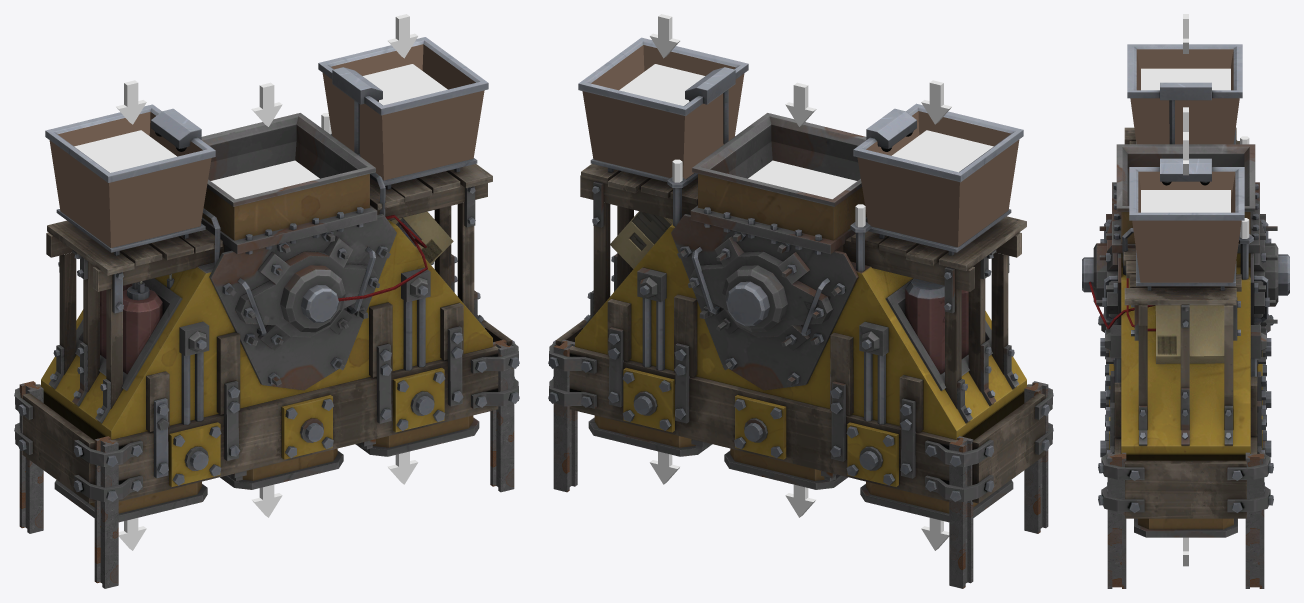
File: VerticalBulkSorter.glb
The picture shows the model from 3 angles, left to right: view 1: azimuth 30°, elevation 25°; view 2: azimuth 150°, elevation 25°; view 3: azimuth 270°, elevation 25°; orthographic projection. The views are drawn at different scales.
Visible parts, largest first — view 1: VerticalBulkSorter, VerticalBulkSorterSupport (×3), FilterTriggerRight, SorterTrigger, FilterTriggerLeft, input ghostarrow, basket ghostarrow (1), basket ghostarrow; view 2: VerticalBulkSorter, VerticalBulkSorterSupport (×3), FilterTriggerRight, SorterTrigger, FilterTriggerLeft, input ghostarrow, basket ghostarrow (1), basket ghostarrow; view 3: VerticalBulkSorter, VerticalBulkSorterSupport (×2), FilterTriggerLeft, FilterTriggerRight.
Boxes of the visible parts, <box> form: VerticalBulkSorter: <box>14,37,519,522</box>; VerticalBulkSorterSupport (×3): <box>19,339,514,588</box>; FilterTriggerRight: <box>74,130,176,172</box>; SorterTrigger: <box>211,160,319,199</box>; FilterTriggerLeft: <box>363,64,447,105</box>; input ghostarrow: <box>251,82,282,126</box>; basket ghostarrow (1): <box>387,14,417,58</box>; basket ghostarrow: <box>116,80,146,124</box>; VerticalBulkSorter: <box>548,37,1053,522</box>; VerticalBulkSorterSupport (×3): <box>553,339,1048,588</box>; FilterTriggerRight: <box>892,130,993,172</box>; SorterTrigger: <box>748,160,856,199</box>; FilterTriggerLeft: <box>619,64,704,105</box>; input ghostarrow: <box>785,82,816,126</box>; basket ghostarrow (1): <box>650,14,680,58</box>; basket ghostarrow: <box>921,80,951,124</box>; VerticalBulkSorter: <box>1082,44,1289,537</box>; VerticalBulkSorterSupport (×2): <box>1107,452,1264,588</box>; FilterTriggerLeft: <box>1141,190,1230,212</box>; FilterTriggerRight: <box>1141,68,1230,90</box>.
Size of what is drawn, in the model's own units: 3.22 by 3.29 by 1.45.
Materials: 8 (4 with a texture image).
